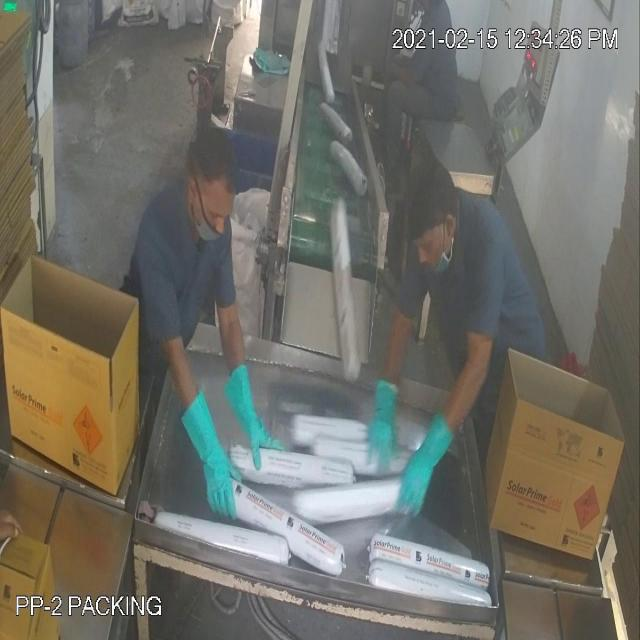Gloves: (38, 122, 420, 462)
